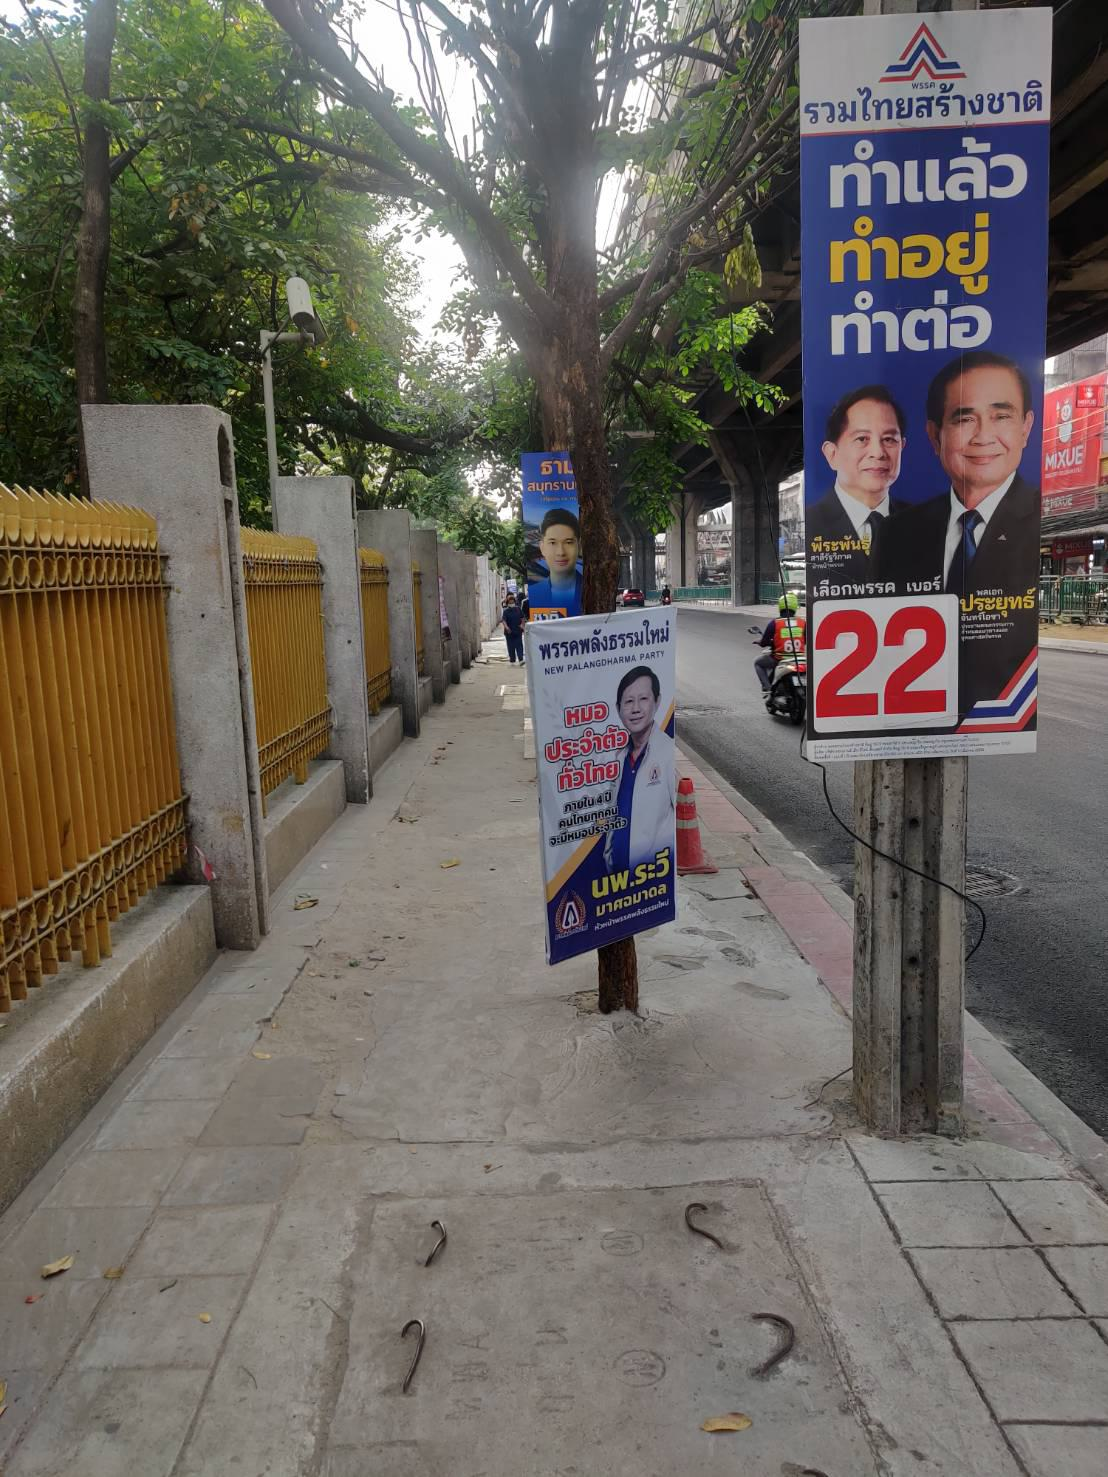Banner: (784, 12, 1056, 750), (517, 615, 690, 943), (507, 450, 591, 626)
